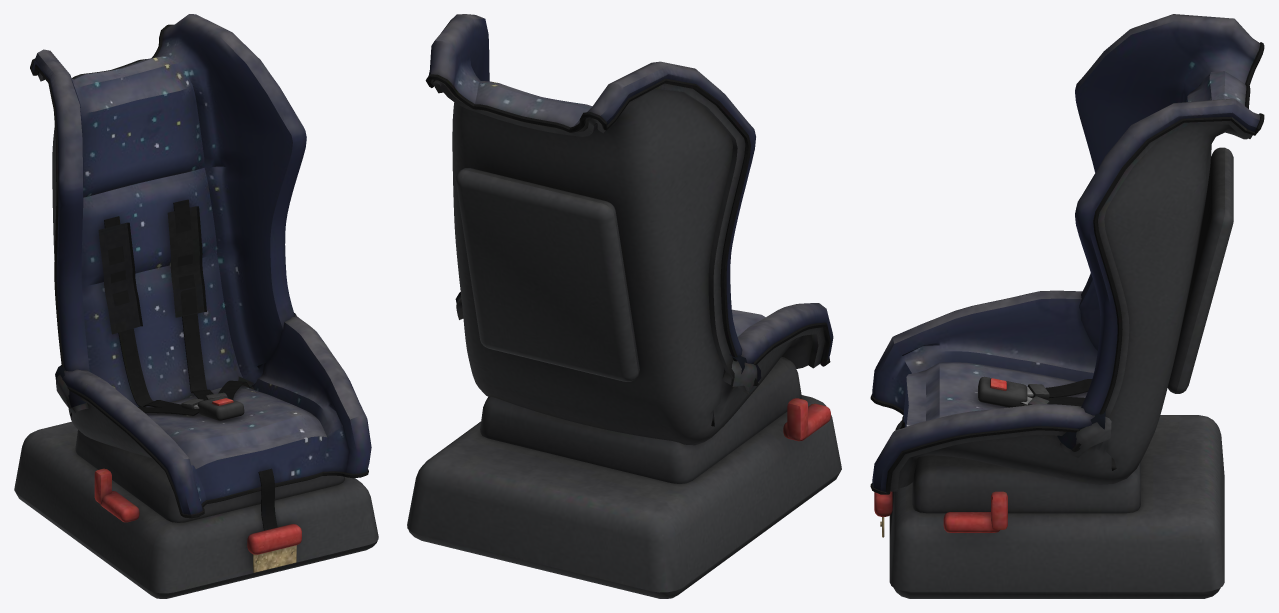
3 renders of one model, left to right at view 1: azimuth 30°, elevation 25°; view 2: azimuth 150°, elevation 25°; view 3: azimuth 270°, elevation 25°, orthographic. The views are drawn at different scales.
Parts seen in each view (by area): view 1: kindersitz_a; view 2: kindersitz_a; view 3: kindersitz_a.
Part boxes in pixels (x1,y1,x2,y2): kindersitz_a: (14, 14, 378, 598); kindersitz_a: (407, 14, 841, 598); kindersitz_a: (870, 14, 1264, 598).
Bounding box in the file's own units: 0.42 × 0.694 × 0.5129.
Materials: 3 (3 with a texture image).
